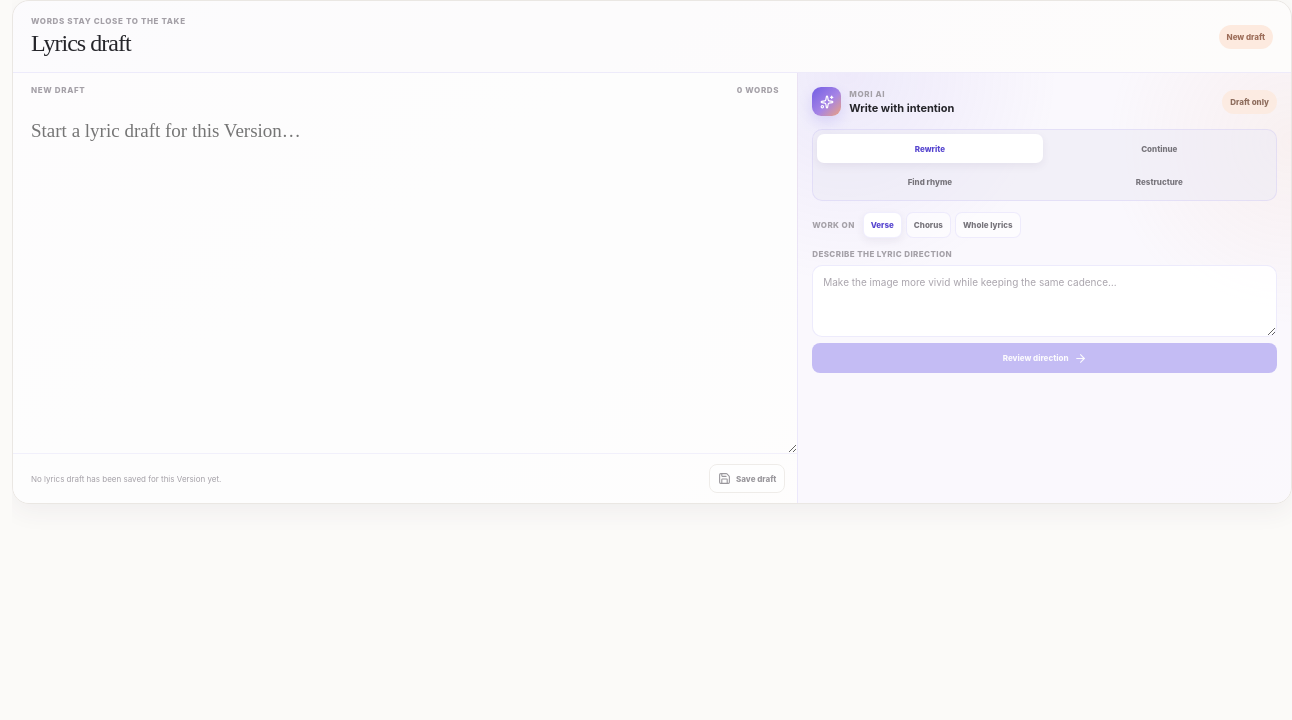
Test case: StudioLyricsEditor workspace states › keeps a ready Version with no persisted lyric revision visibly new
Check: the text "New draft" is shown 2 times, box [1218,24,1273,48]; [31,85,85,95]
Check: the text "No lyrics draft has been saved for this Version yet." is shown, box [31,474,221,484]
Step 1. Type "A new chorus begins here." into the text box named "Lyrics draft" → {"x": 405, "y": 278}, box [13,103,797,453]
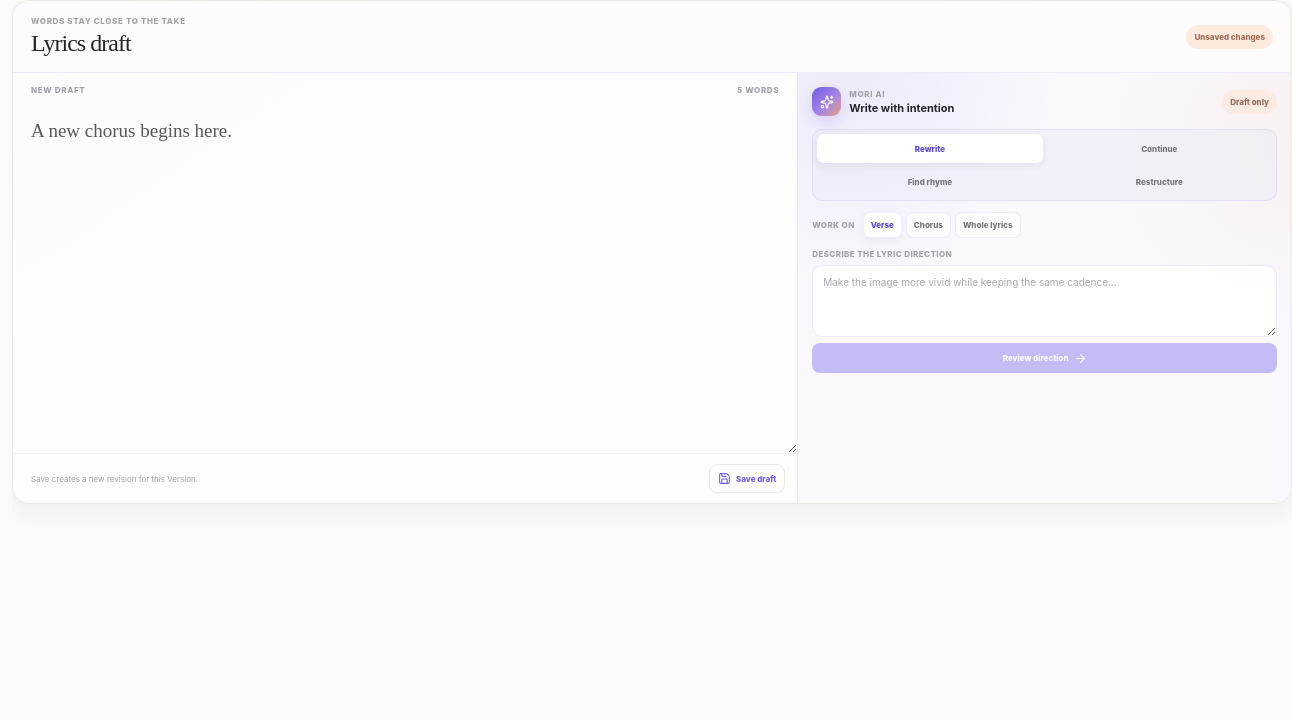
Check: the text "Unsaved changes" is shown, box [1186,24,1273,48]
Check: the button "Save draft" is enabled, box [709,464,785,493]
